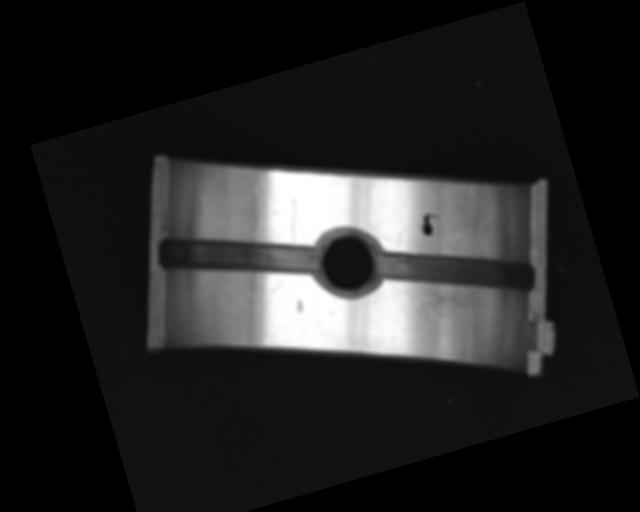blot: (417, 210, 444, 239)
bruise: (293, 297, 305, 314)
gap: (373, 214, 539, 329), (156, 201, 323, 313)
hole: (305, 219, 390, 303)
nick: (280, 198, 306, 242)
scratch: (395, 261, 496, 330)
